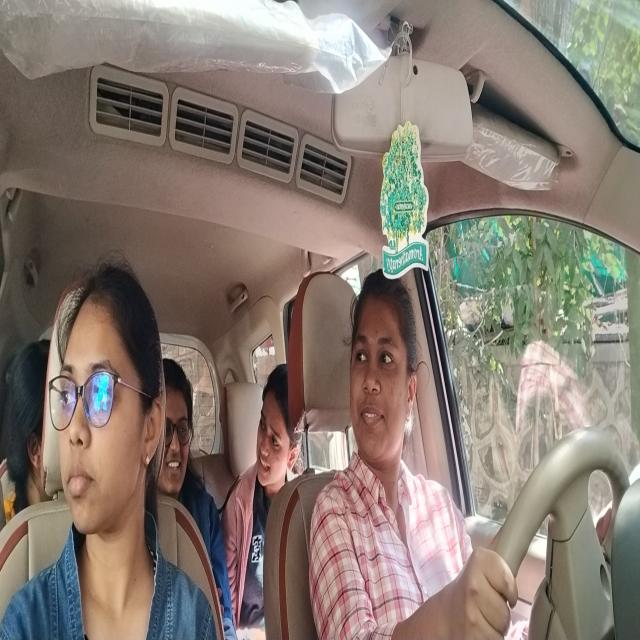LeftRight: (347, 265, 417, 465)
person: (54, 282, 164, 531), (10, 352, 48, 498), (157, 357, 194, 498), (259, 364, 295, 483)
talking: (358, 401, 386, 431)
